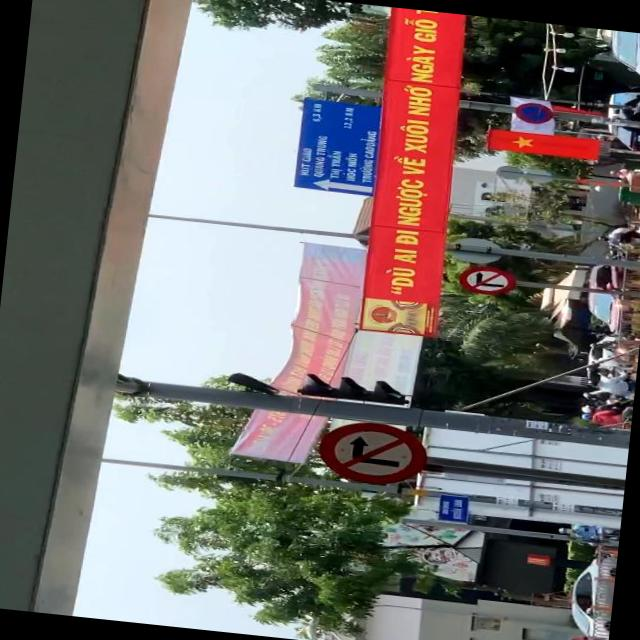P-123b: (313, 417, 429, 489), (458, 264, 516, 296)
